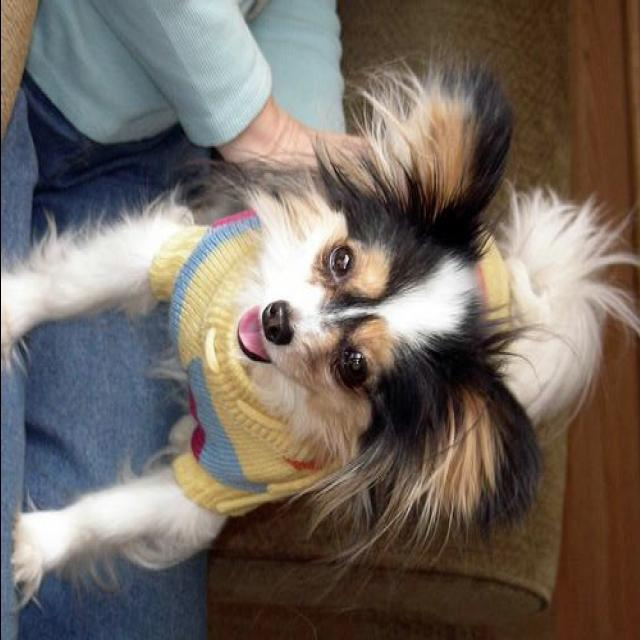papillon: (2, 57, 638, 610)
